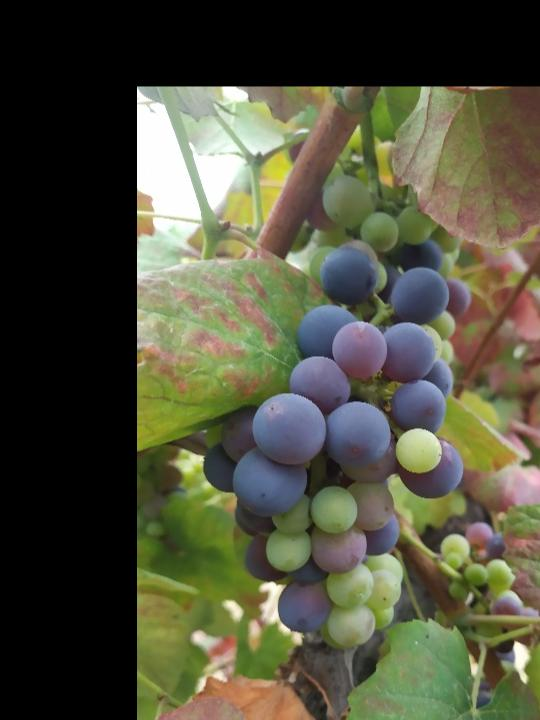grape: (201, 238, 468, 652)
